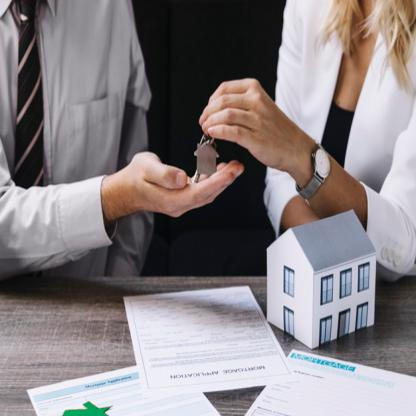keys: (187, 132, 219, 185)
